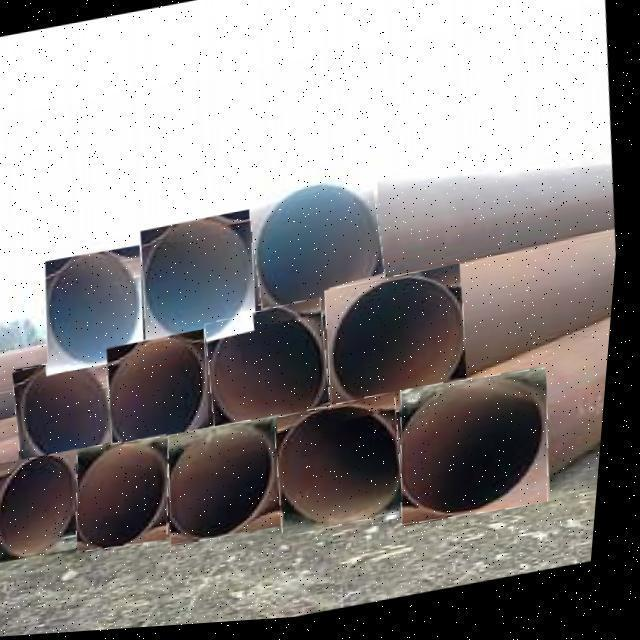pipe: (408, 375, 557, 530), (329, 270, 474, 429), (252, 174, 392, 335), (281, 397, 412, 542), (210, 302, 338, 448), (145, 213, 262, 352), (177, 420, 291, 548), (113, 332, 217, 460), (19, 352, 122, 476), (50, 247, 149, 375), (86, 439, 176, 553), (0, 450, 89, 564)
